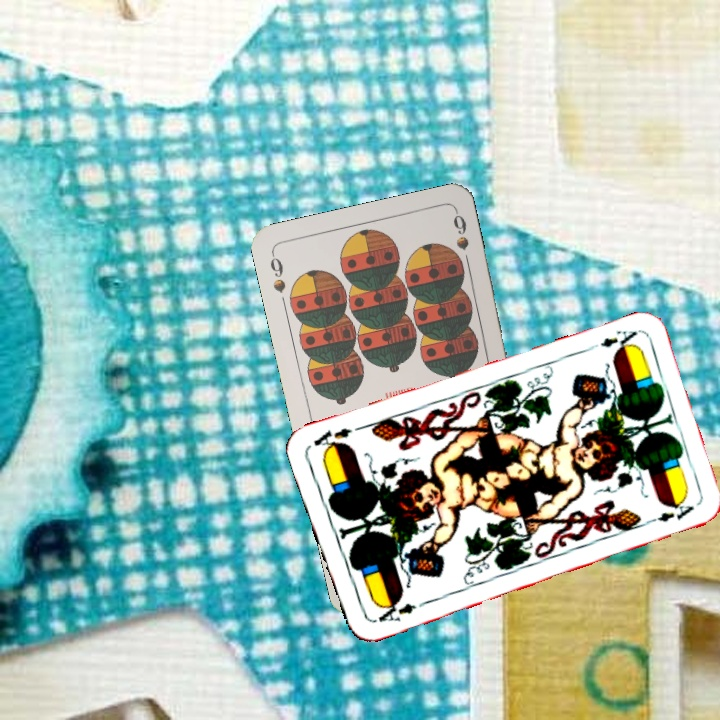EA: (584, 326, 640, 355), (369, 595, 419, 626)
S9: (266, 249, 289, 296)
